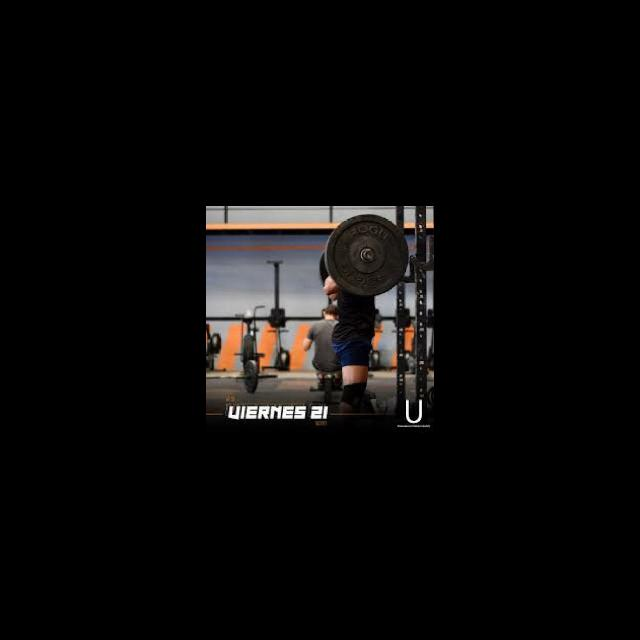barbell: (324, 211, 413, 301)
